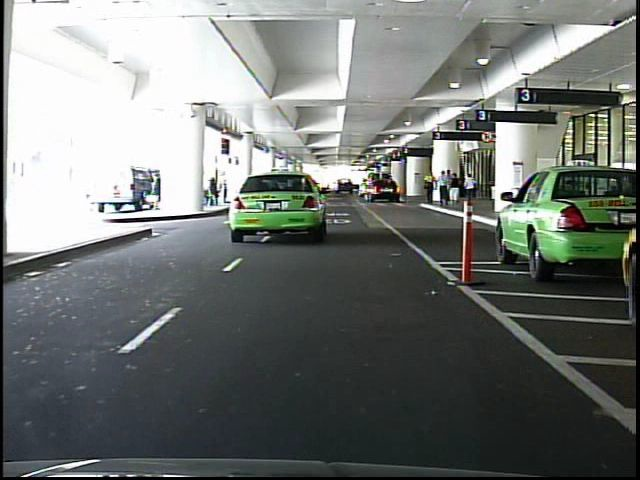person: (463, 169, 481, 210), (438, 165, 453, 210), (422, 167, 438, 209), (449, 172, 462, 212)
